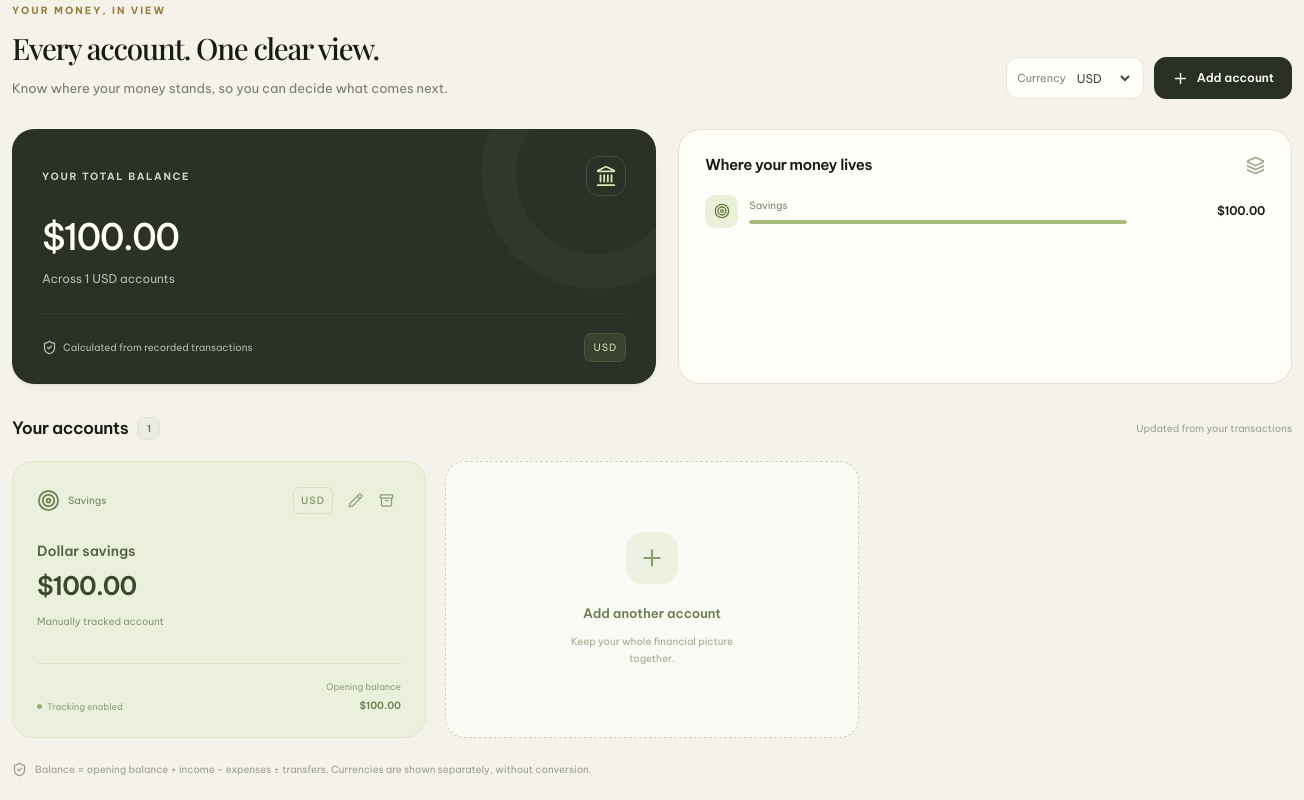
Test case: Financial workspace API contracts › keeps account currencies separate and loads every backend page
The image size is (1304, 800).
Check: the heading "Dollar savings" is shown, box [37,542,136,560]
Check: the text "Dong savings" is not shown
Select "VND" in the dropdown named "Filter by currency" at (1103, 78), box [1073,65,1133,92]
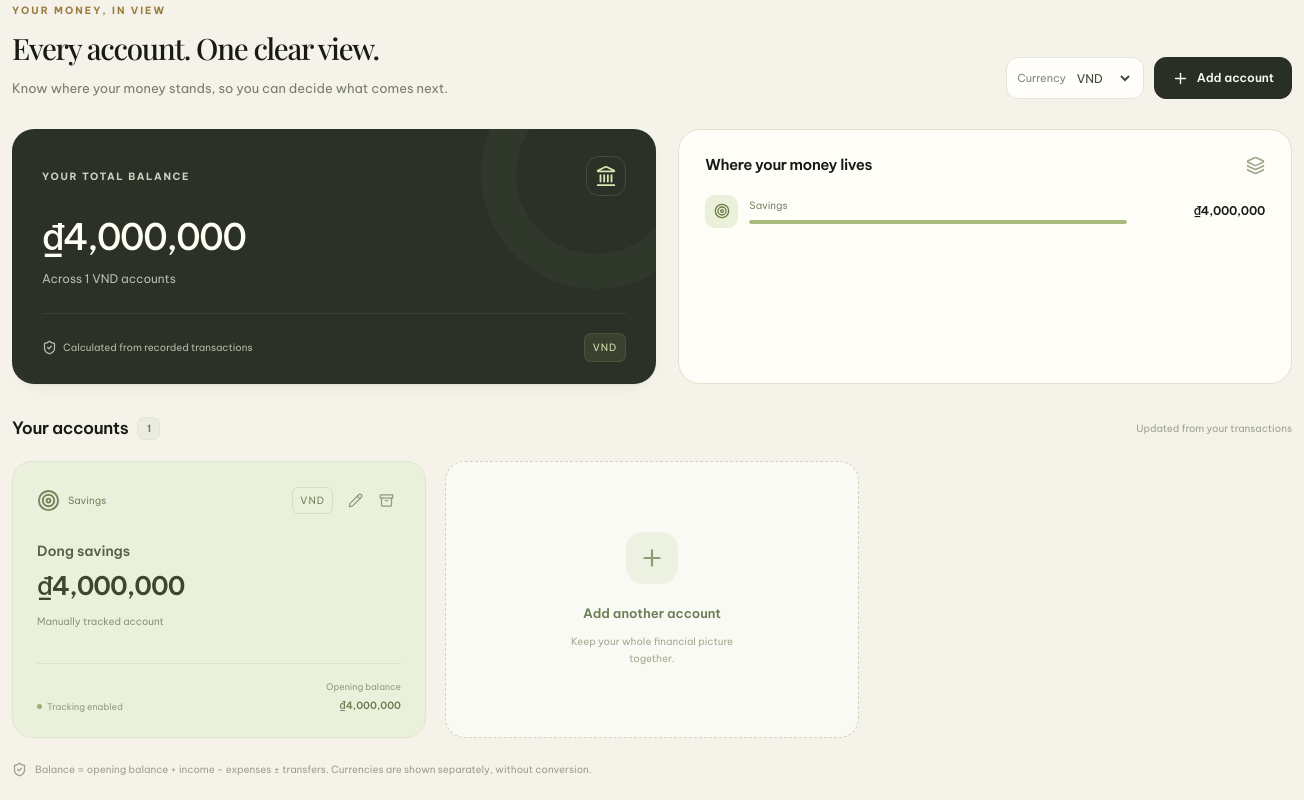
Check: the heading "Dong savings" is shown, box [37,542,130,560]
Check: the heading "Dollar savings" is gone
